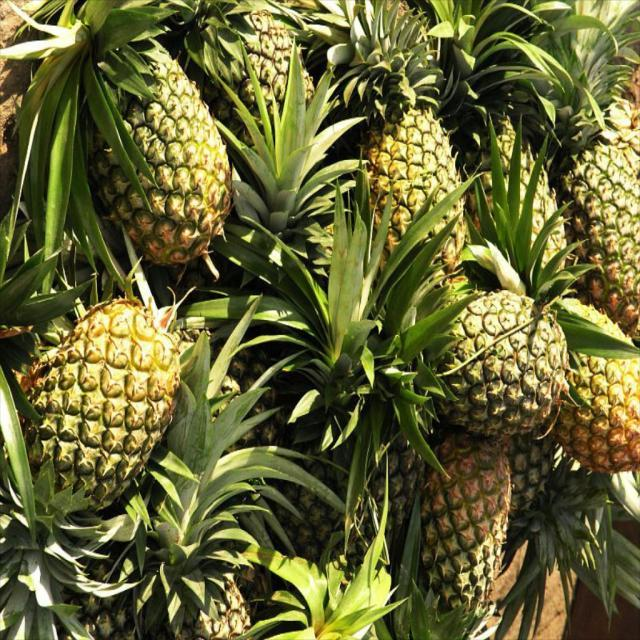Pineapple: (0, 0, 639, 639), (417, 239, 571, 463)
